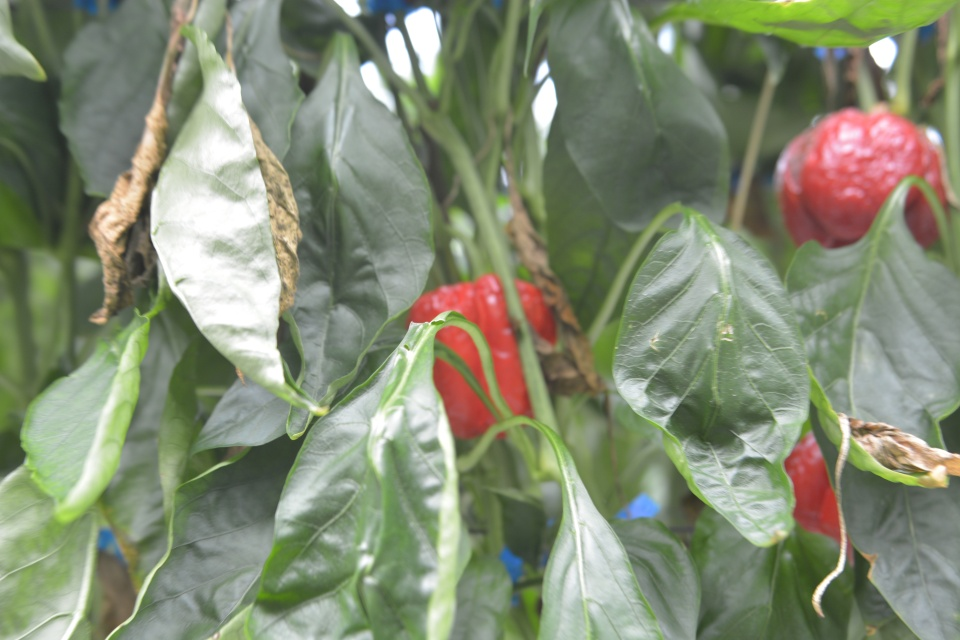fruit: (405, 271, 560, 444), (771, 104, 952, 252), (782, 432, 855, 570)
